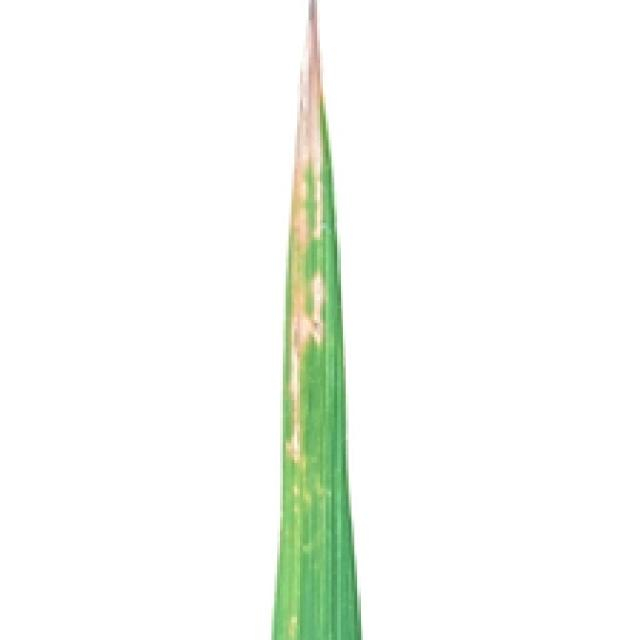Rice___Bacterial_Leaf_Blight: (268, 0, 362, 637)
